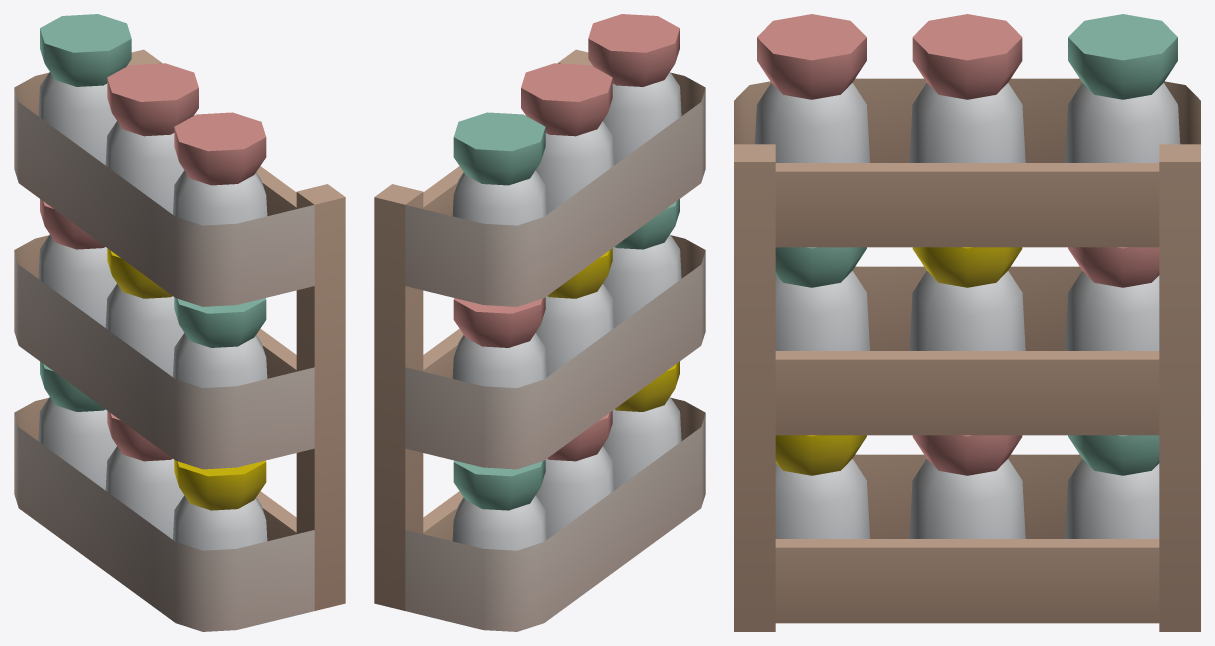
The model's file is spice-rack (%wall).glb.
3 views of the same model, side by side, from view 1: azimuth 30°, elevation 25°; view 2: azimuth 150°, elevation 25°; view 3: azimuth 270°, elevation 25° (orthographic). The views are drawn at different scales.
Visible parts, largest first — view 1: spice-rack (%wall); view 2: spice-rack (%wall); view 3: spice-rack (%wall).
Boxes of the visible parts, x1=… form: spice-rack (%wall): x1=14, y1=14, x2=345, y2=631; spice-rack (%wall): x1=374, y1=14, x2=705, y2=631; spice-rack (%wall): x1=734, y1=14, x2=1200, y2=631.
Size of the model in its own units: 0.1902 by 0.5776 by 0.45.
